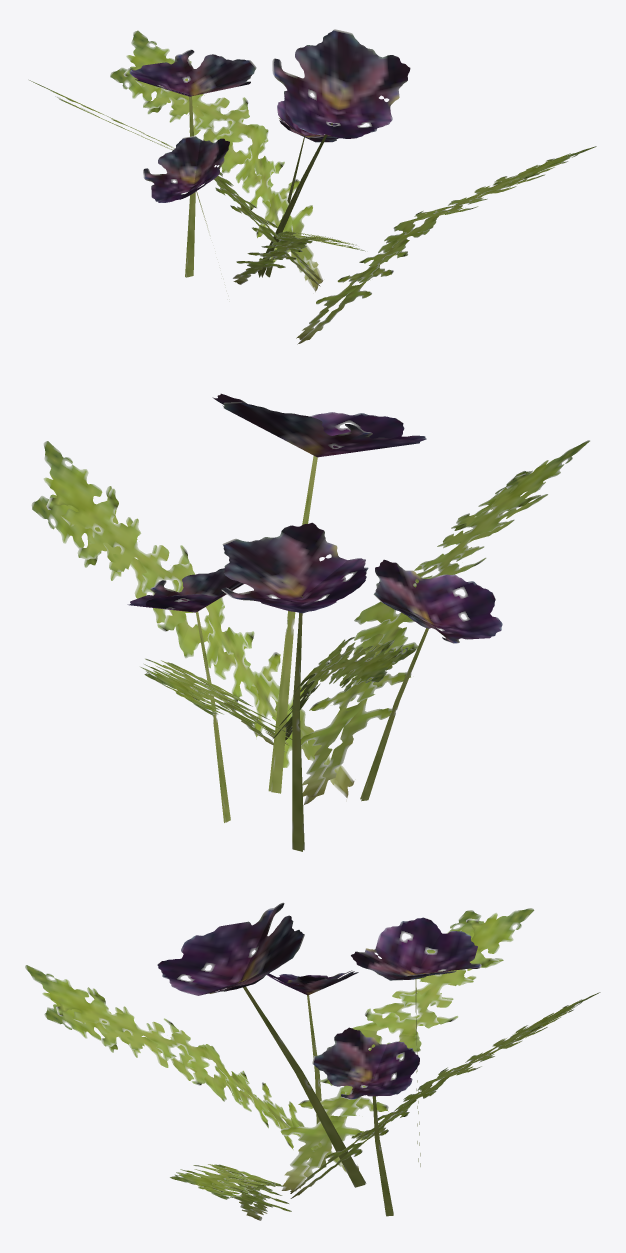
Rendered from Flower_005.fbx.
3 views of the same model, one above another, from view 1: azimuth 30°, elevation 25°; view 2: azimuth 150°, elevation 25°; view 3: azimuth 270°, elevation 25° (orthographic). The views are drawn at different scales.
Parts seen in each view (by area): view 1: FlowerPatch_005; view 2: FlowerPatch_005; view 3: FlowerPatch_005.
Part boxes in pixels (bbox=[...]): FlowerPatch_005: bbox=[28, 29, 596, 344]; FlowerPatch_005: bbox=[31, 393, 589, 851]; FlowerPatch_005: bbox=[25, 902, 600, 1220].
Size of the model in its own units: 104 by 76.71 by 116.
